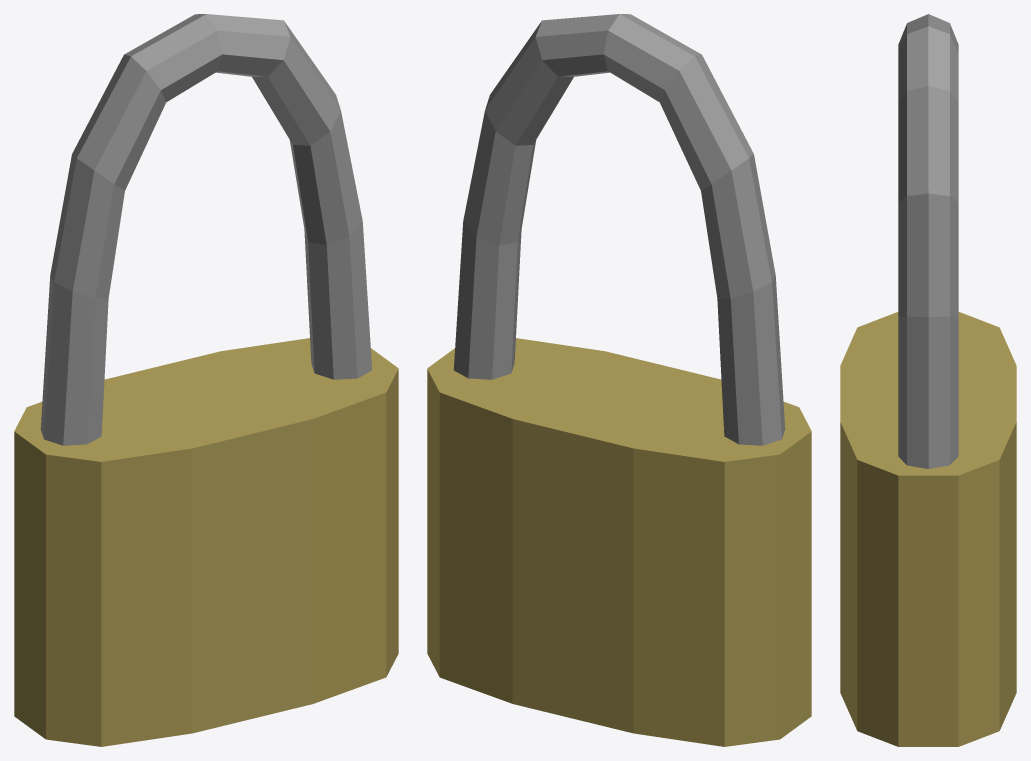
Rendered from lock.glb.
3 views of the same model, side by side, from view 1: azimuth 30°, elevation 25°; view 2: azimuth 150°, elevation 25°; view 3: azimuth 270°, elevation 25° (orthographic). The views are drawn at different scales.
Visible parts, largest first — view 1: LockBody, LockShank; view 2: LockBody, LockShank; view 3: LockBody, LockShank.
Part boxes in pixels (x1,y1,x2,y2): LockBody: (14,338,398,746); LockShank: (40,14,372,445); LockBody: (427,338,811,746); LockShank: (453,14,785,445); LockBody: (840,312,1016,746); LockShank: (898,14,958,468).
Size of the model in its own units: 0.0641 by 0.1165 by 0.0291.
